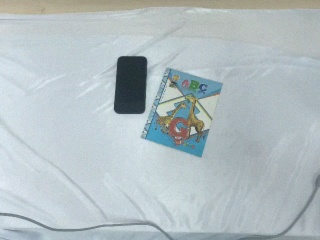book: (140, 67, 223, 158)
phone: (113, 56, 147, 115)
